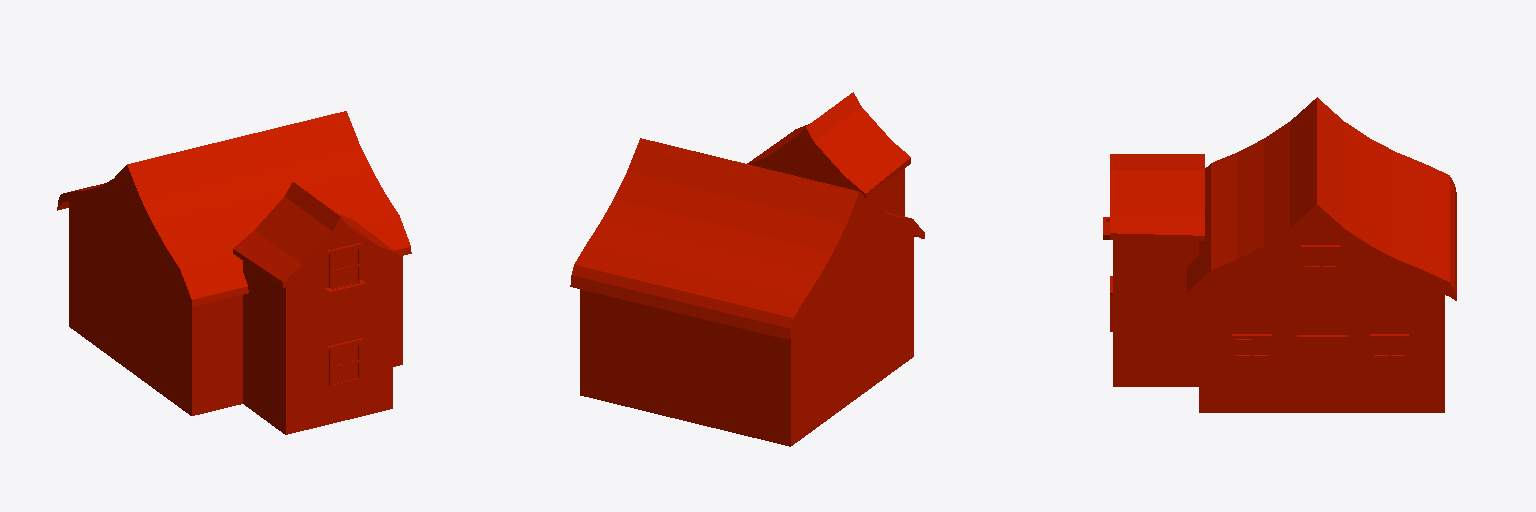
The model's file is house.obj.
The picture shows the model from 3 angles: view 1: azimuth 30°, elevation 25°; view 2: azimuth 150°, elevation 25°; view 3: azimuth 270°, elevation 25°; orthographic projection.
Visible parts, largest first — view 1: LowPolyBeerGarden_mergedObject; view 2: LowPolyBeerGarden_mergedObject; view 3: LowPolyBeerGarden_mergedObject.
Part boxes in pixels (x1,y1,x2,y2): LowPolyBeerGarden_mergedObject: (57, 111, 411, 434); LowPolyBeerGarden_mergedObject: (570, 92, 924, 446); LowPolyBeerGarden_mergedObject: (1103, 97, 1456, 412).
Bounding box in the file's own units: 1.93 × 1.75 × 2.68.